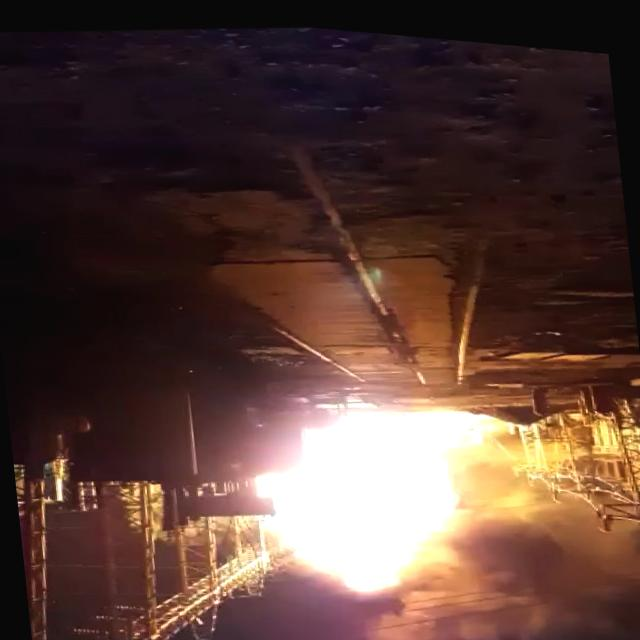Fire: (242, 380, 528, 608)
Smoke: (341, 440, 640, 640)
